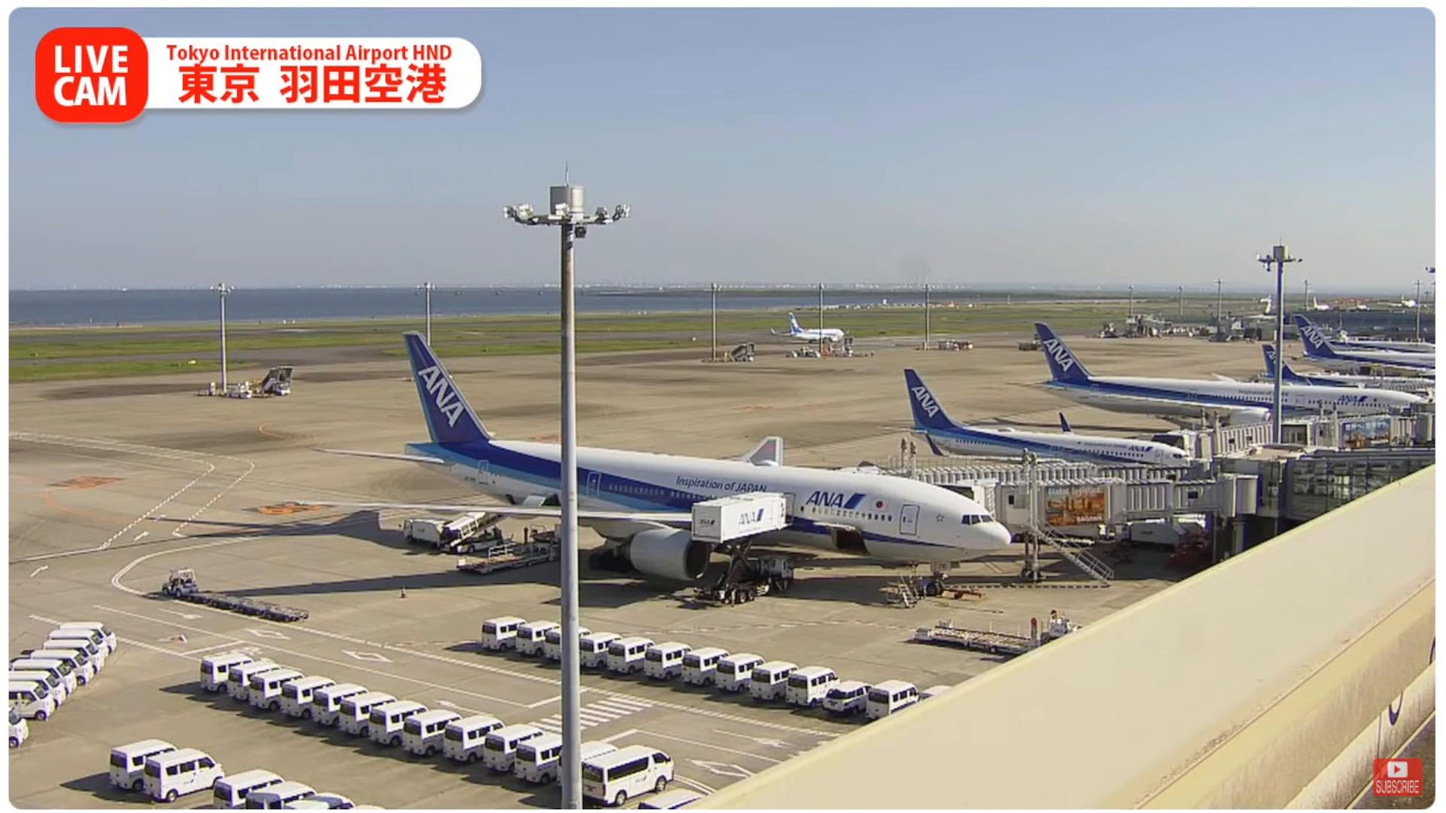Aerobridge: (880, 463, 1198, 520), (990, 479, 1258, 539)
Airplane: (308, 328, 1018, 599)
Baggage truck: (382, 510, 441, 545)
Catering: (689, 490, 795, 607)
Dolly: (177, 588, 316, 623)
JCPL: (914, 608, 1083, 659), (431, 522, 562, 581)
Skyloader: (426, 503, 510, 554)
Tractor: (160, 573, 194, 601)
Window: (1281, 462, 1437, 524)
